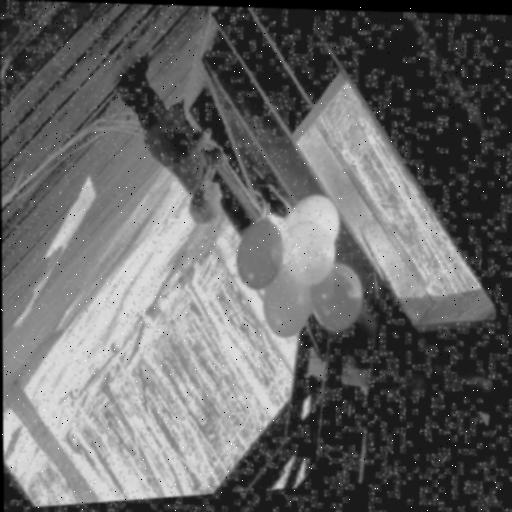balloon: (232, 210, 292, 303), (309, 263, 375, 346), (278, 219, 346, 299), (280, 192, 347, 257), (264, 264, 314, 351)
